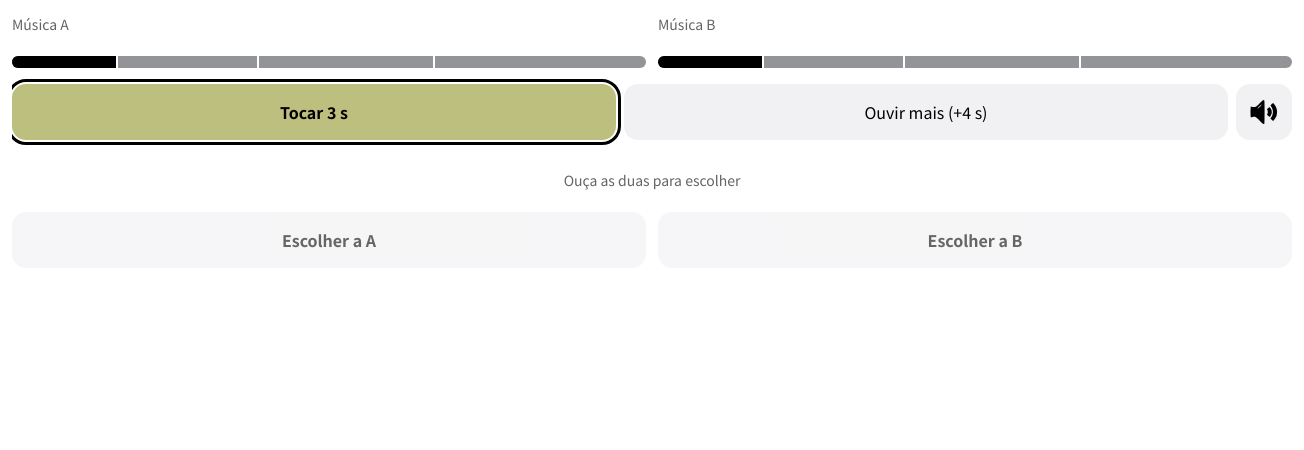
QuizRoundView (M18) › os pontos pelo trecho: depois do Ouvir mais, o acerto vale menos (o usuário, 28/10/2026)
Click the button "Ouvir mais (+4 s)".
click(926, 112)  # box [624,84,1228,140]
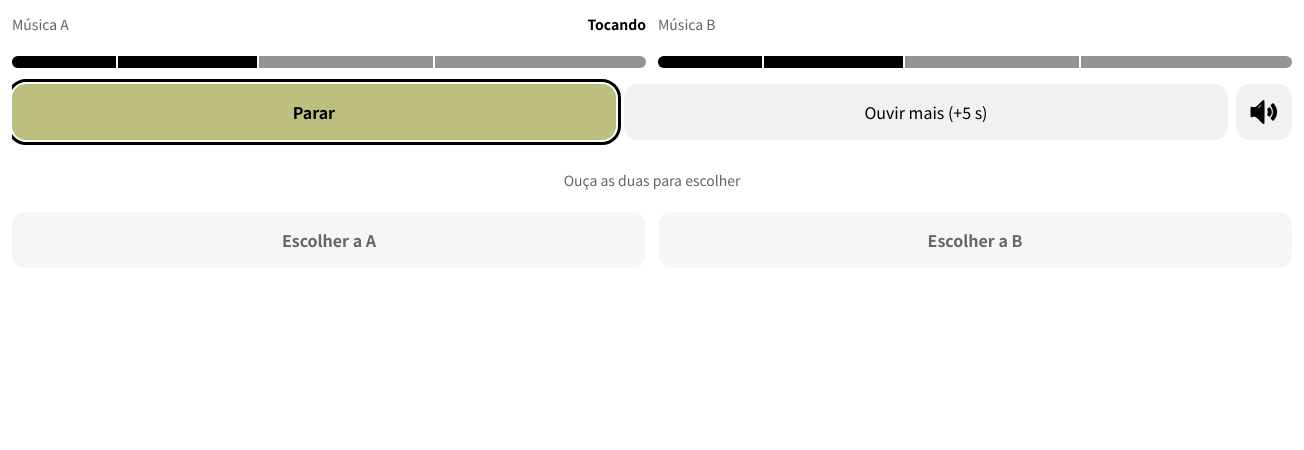
Click the button "Ouvir mais (+5 s)".
click(926, 112)  # box [624,84,1228,140]
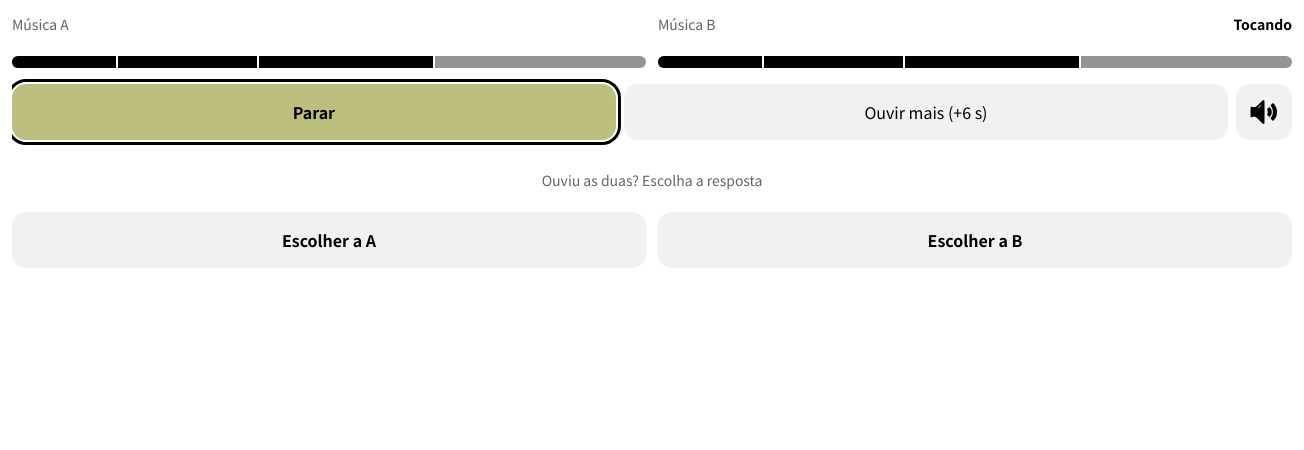
Click the button "Escolher a A".
click(329, 240)  # box [12,212,646,268]
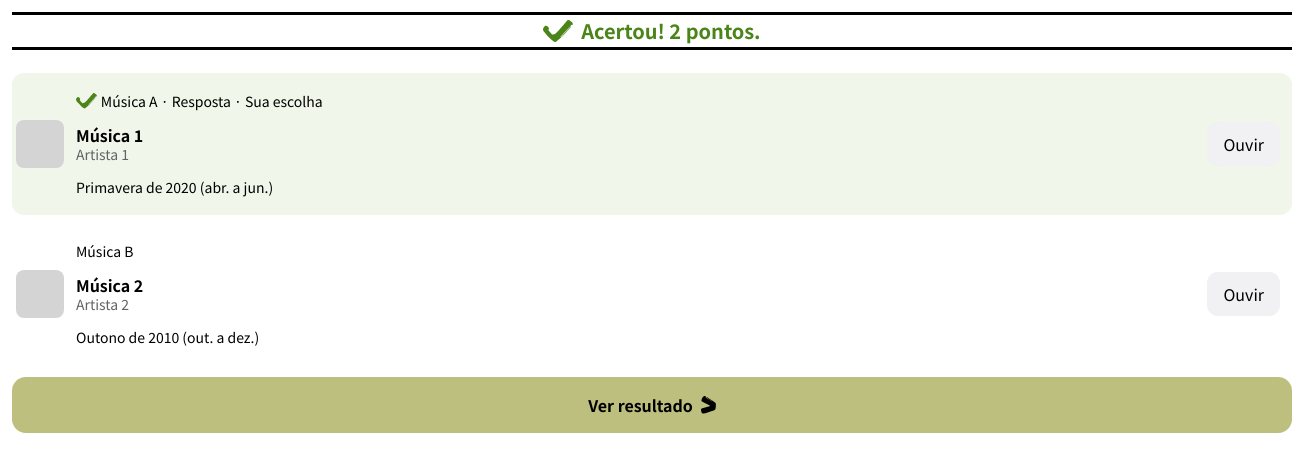
Now the heading "Acertou! 2 pontos." is shown, box [543,16,761,45]
